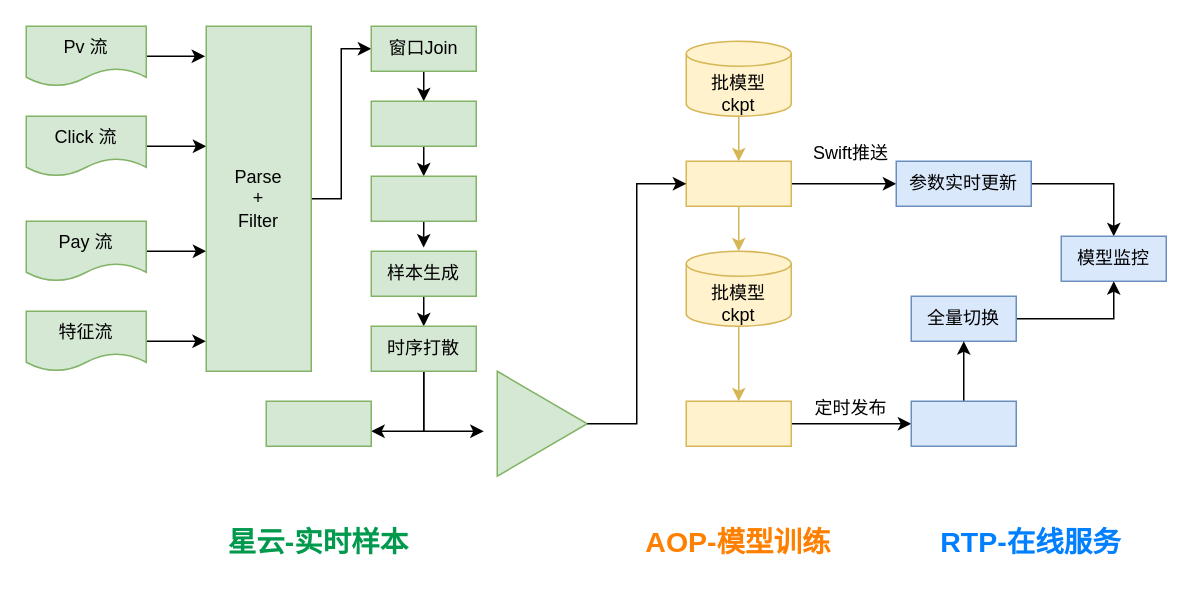
Image size: 1193x611. Some labels were removed from this diagram. Each missing label, with the centre of its shape:
"Label生成" goes at [423,123].
"Swift 实时特征" goes at [541,423].
"样本监控" goes at [318,423].
"模型Build" goes at [963,423].
"模型校验" goes at [738,423].
"流式训练" goes at [738,183].
"特征提取" goes at [423,198].
